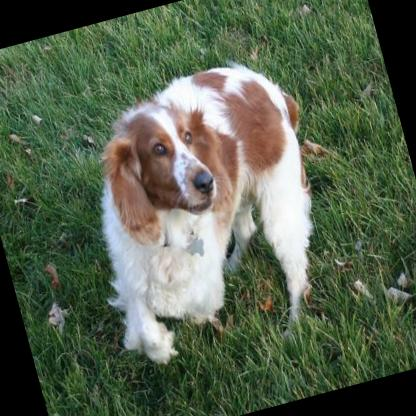Welsh_springer_spaniel: (54, 49, 357, 382)
